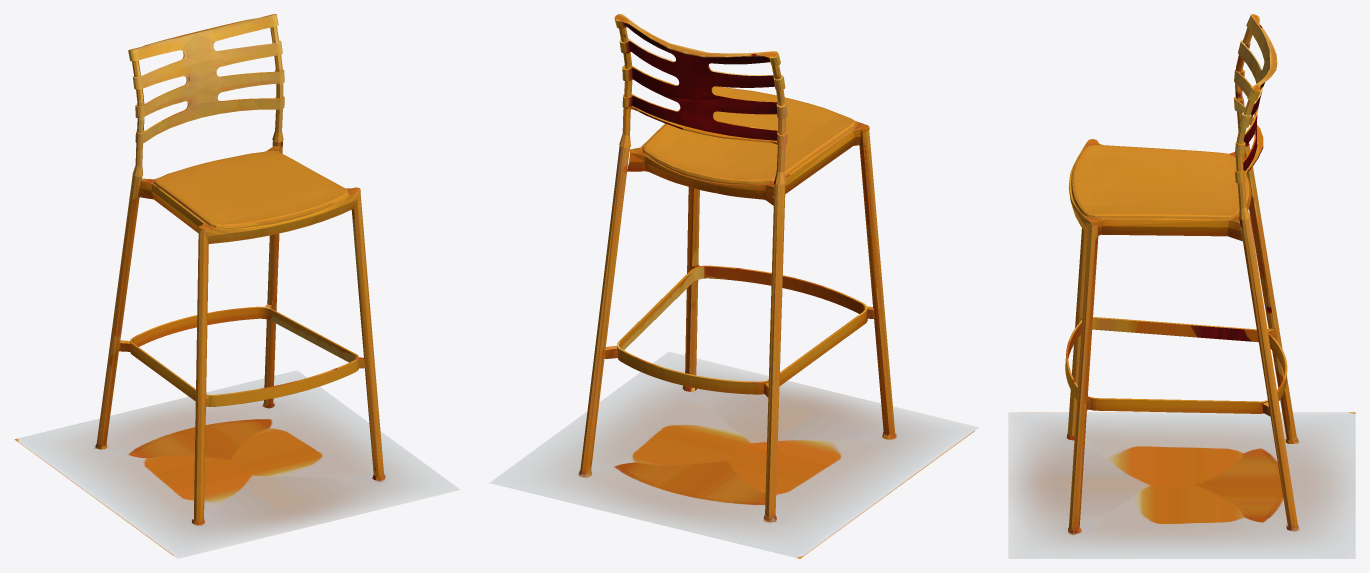
Rendered from edited_mesh.glb.
3 views of the same model, side by side, from view 1: azimuth 30°, elevation 25°; view 2: azimuth 150°, elevation 25°; view 3: azimuth 270°, elevation 25° (orthographic). The views are drawn at different scales.
Parts seen in each view (by area): view 1: normalized_model.obj; view 2: normalized_model.obj; view 3: normalized_model.obj.
Part boxes in pixels (x1,y1,x2,y2): normalized_model.obj: [14, 14, 460, 558]; normalized_model.obj: [489, 14, 979, 558]; normalized_model.obj: [1008, 14, 1355, 558].
Bounding box in the file's own units: 1.45 × 2 × 1.45.
1 material, 1 textured.
